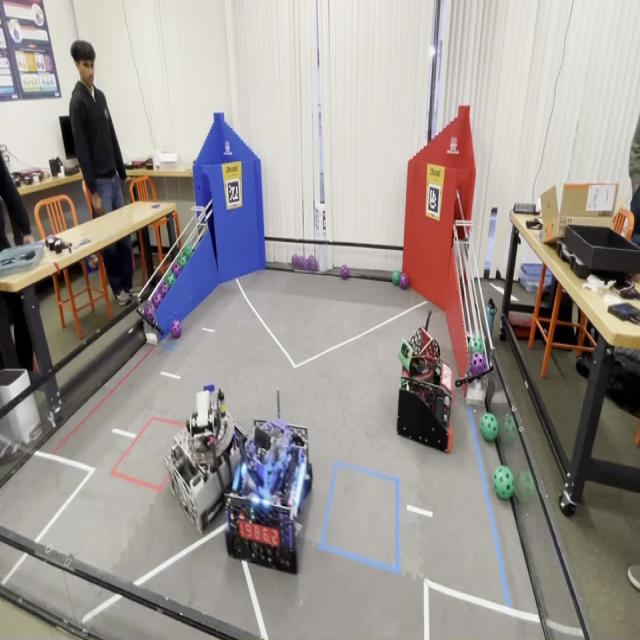artifact_green: (515, 470, 536, 504), (494, 466, 514, 500), (500, 414, 517, 445), (481, 413, 498, 442), (470, 352, 487, 376), (469, 336, 483, 356), (178, 252, 188, 269), (171, 261, 181, 278), (165, 272, 175, 287), (400, 273, 408, 290), (292, 254, 301, 269), (184, 245, 193, 259), (392, 271, 401, 285), (341, 265, 349, 279), (300, 258, 309, 270)
artifact_purple: (471, 352, 486, 375), (152, 291, 163, 309), (144, 303, 154, 322), (171, 320, 181, 338), (158, 283, 169, 298), (172, 262, 181, 278), (400, 273, 408, 289), (341, 265, 349, 279), (311, 256, 318, 271), (308, 254, 315, 269), (292, 254, 299, 267), (302, 259, 310, 270)
